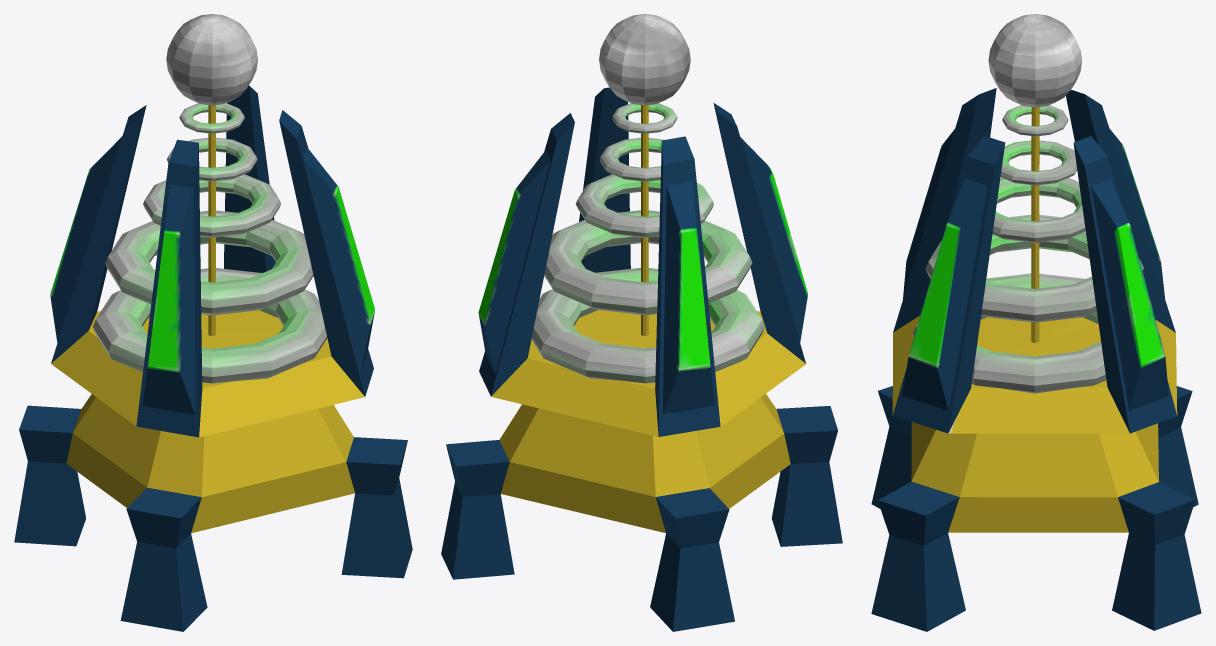
File: Tour tesla2.fbx
3 renders of one model, left to right at view 1: azimuth 30°, elevation 25°; view 2: azimuth 150°, elevation 25°; view 3: azimuth 270°, elevation 25°, orthographic. The views are drawn at different scales.
Visible parts, largest first — view 1: Tour 2; view 2: Tour 2; view 3: Tour 2.
Boxes of the visible parts, <box> form: Tour 2: <box>14,14,412,631</box>; Tour 2: <box>441,14,842,631</box>; Tour 2: <box>871,14,1201,631</box>.
Size of the model in its own units: 27.66 by 47.79 by 26.48.
